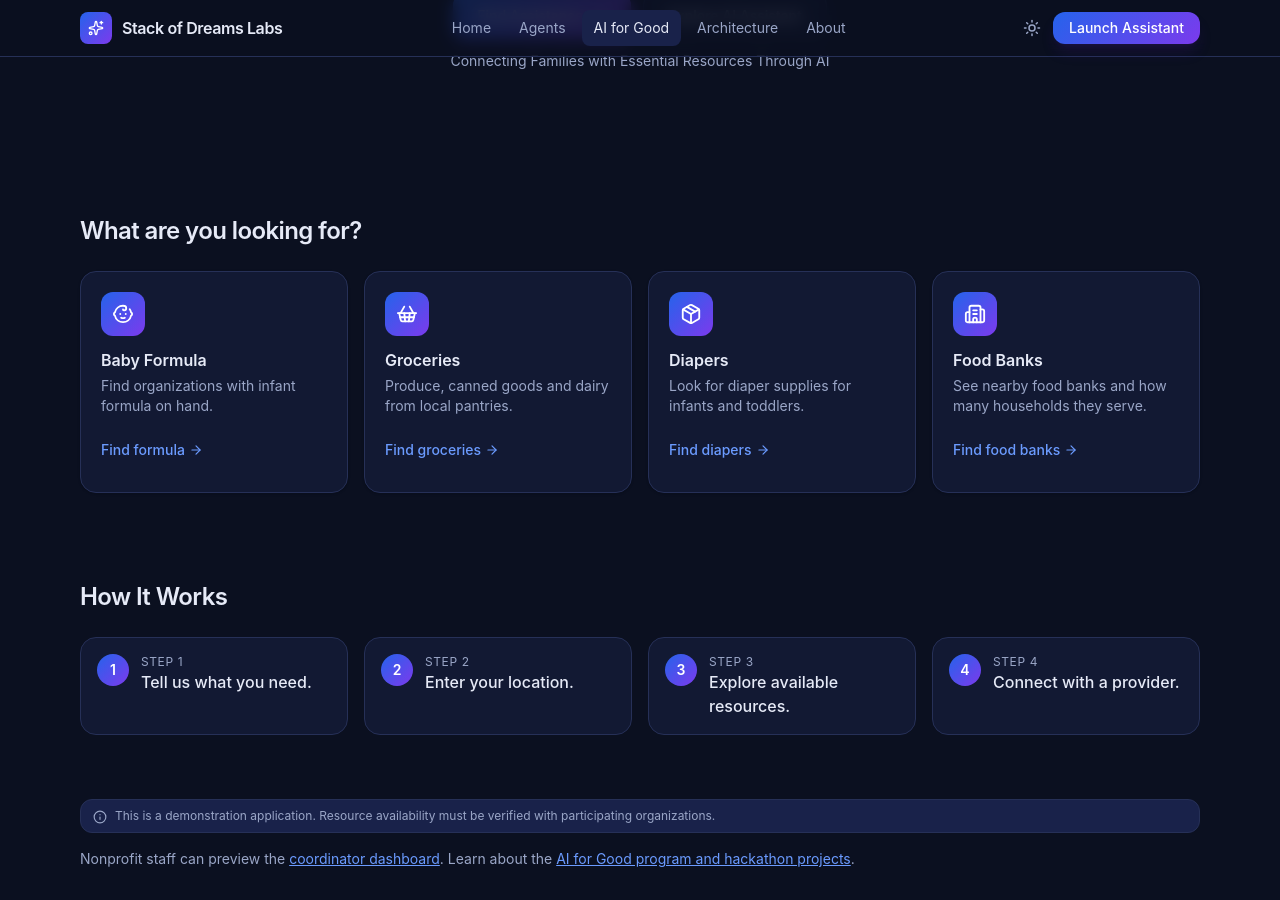
landing page › category cards preselect the resource type in the search form
(page scrolled)
Click the link with aria-label "Find formula: Baby Formula" at (152, 450), box top-left (101, 441), bottom-right (203, 458)
(page scrolled)
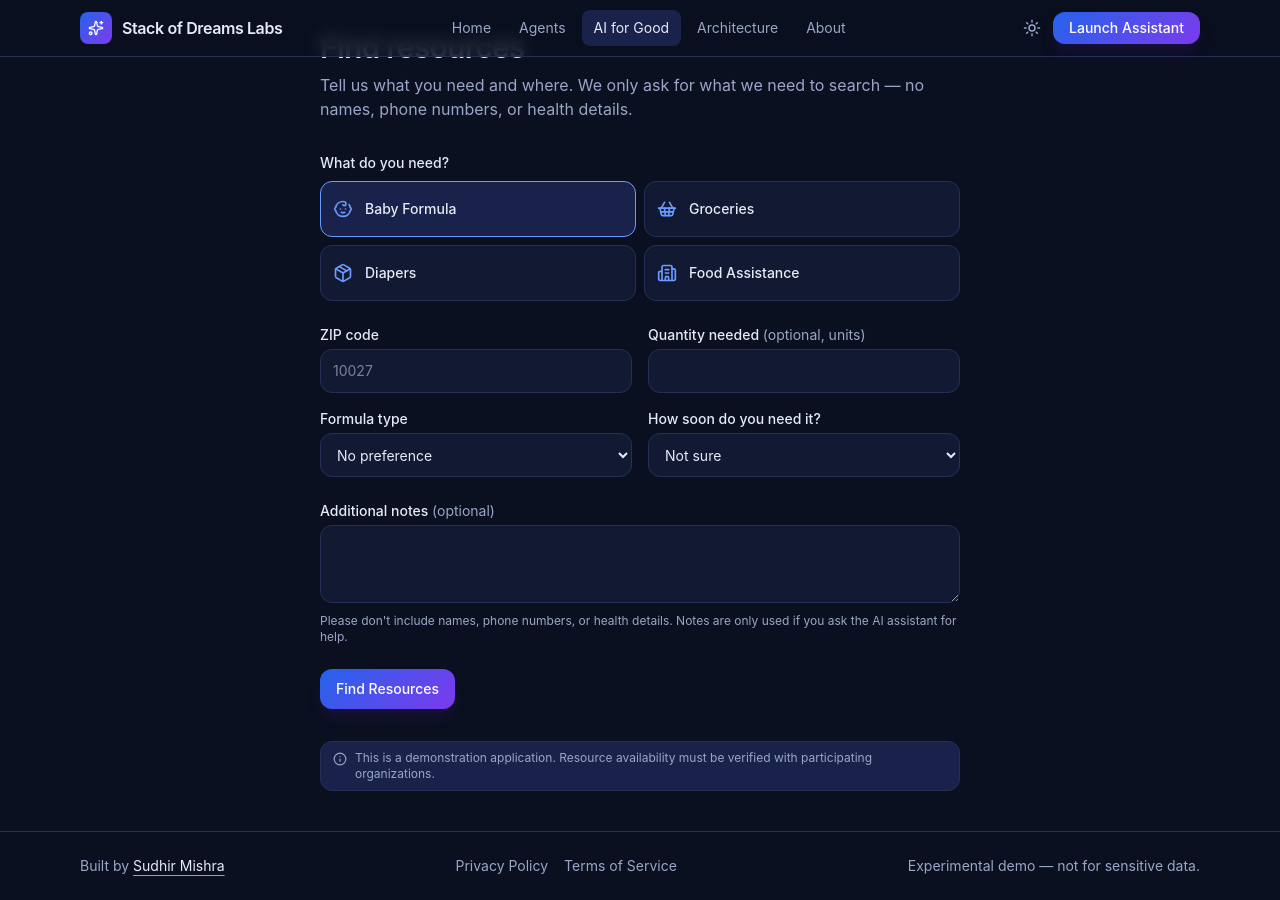
Result: the radio button labelled "Baby Formula" is checked at top-left (320, 181), bottom-right (636, 237)
Result: the dropdown labelled "Formula type" is shown at top-left (320, 433), bottom-right (632, 477)
